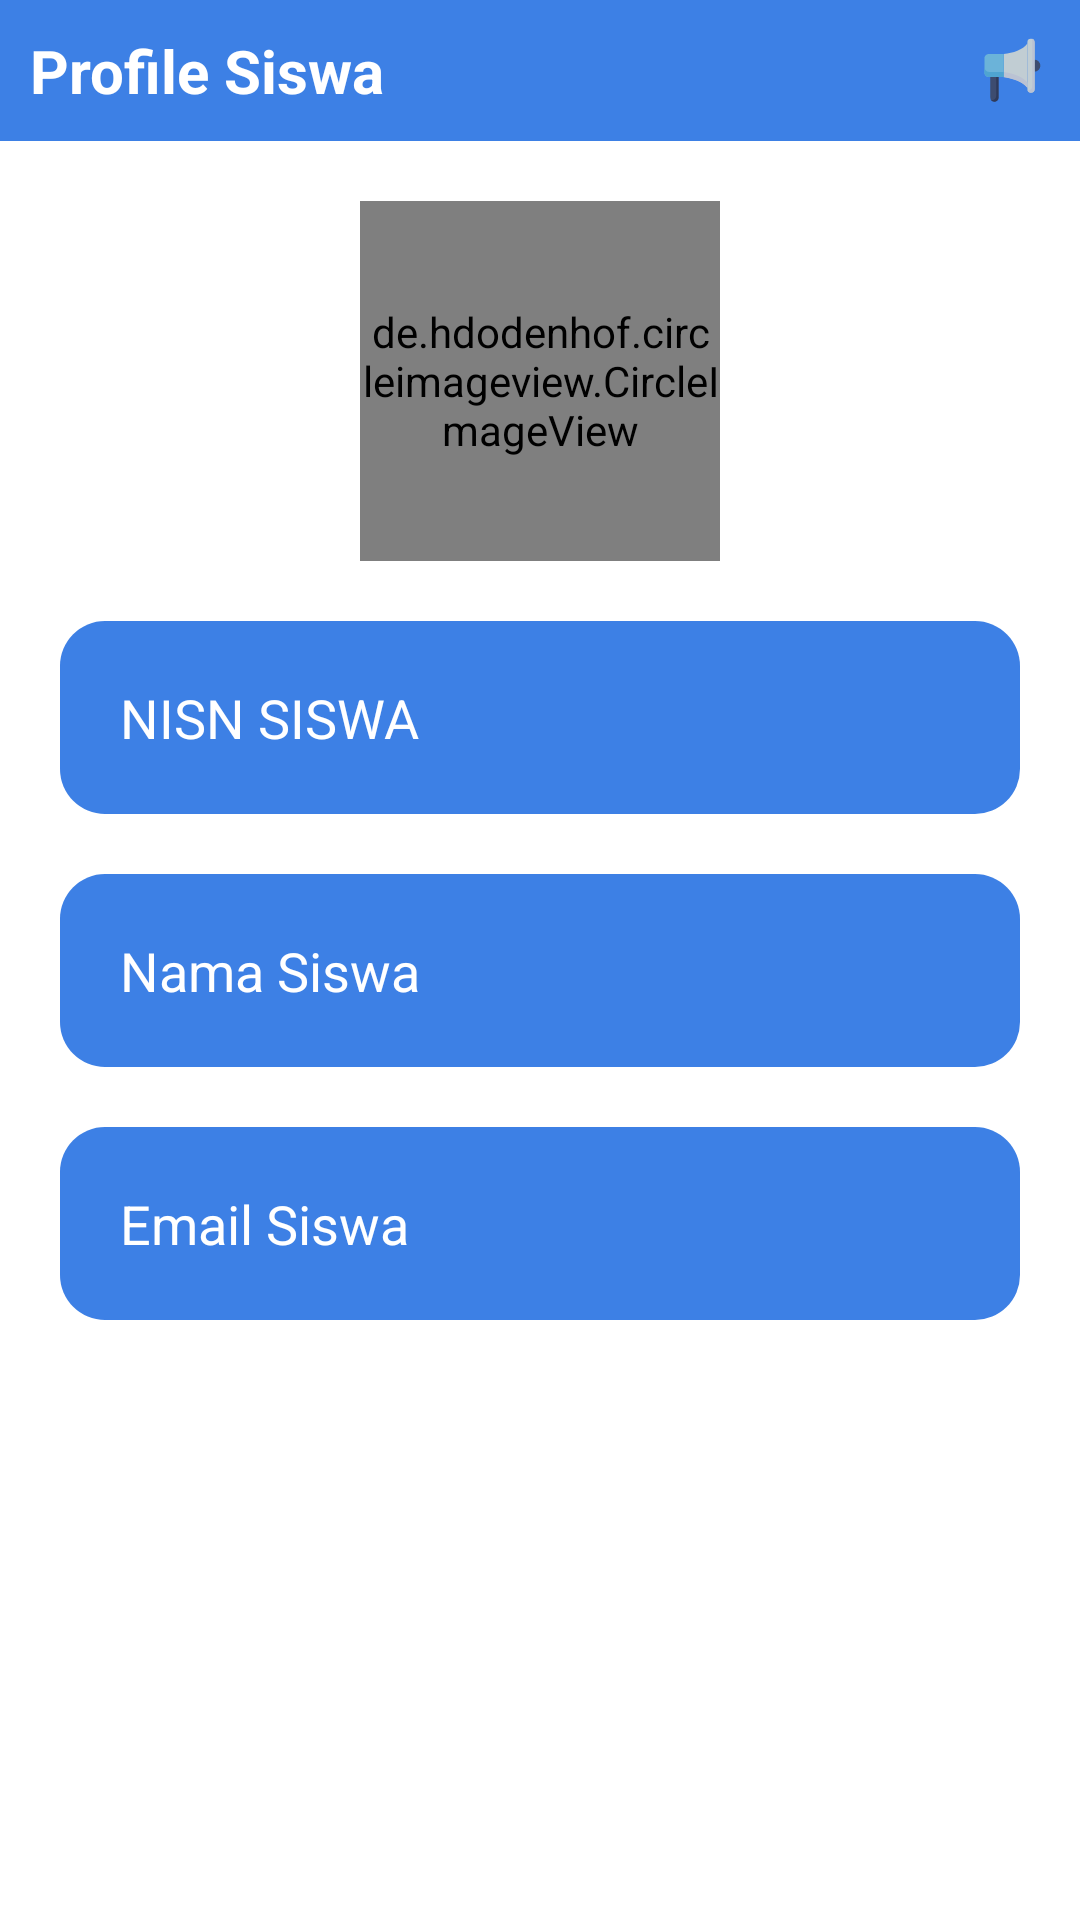

Icons on this 1080x1920 Android screen, each with the point to tap as (x=x, y=y):
pengumuman: (x=1012, y=70)
